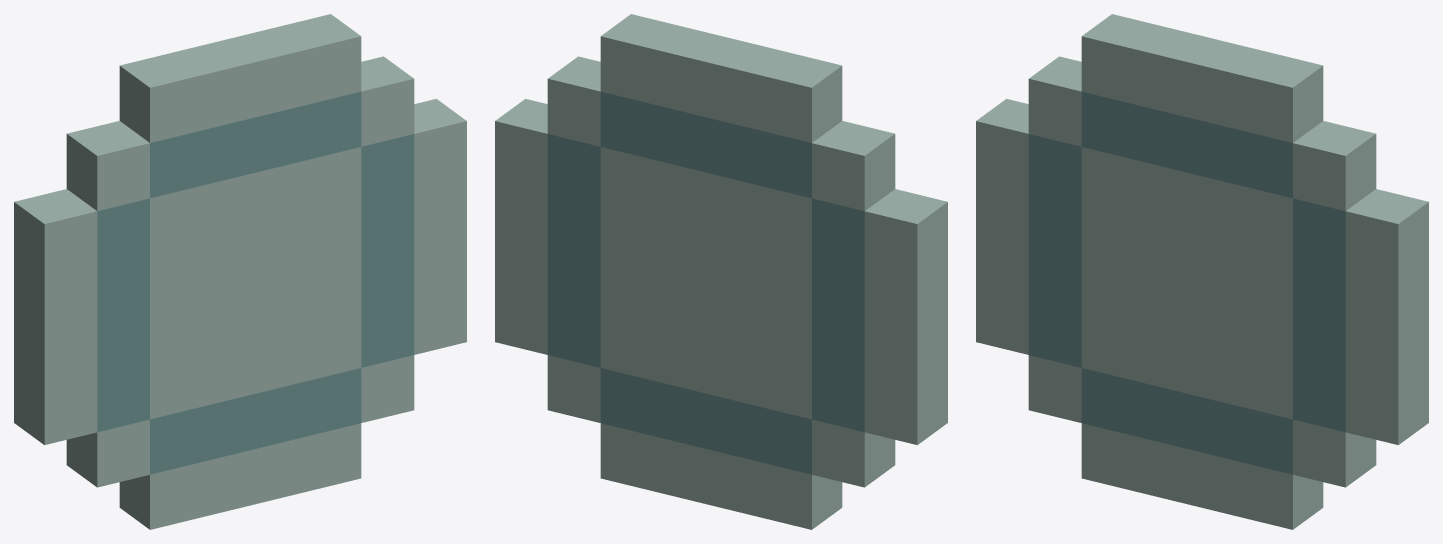
The model's file is Coin_Small_4.glb.
3 views of the same model, side by side, from view 1: azimuth 30°, elevation 25°; view 2: azimuth 150°, elevation 25°; view 3: azimuth 330°, elevation 25° (orthographic).
Parts seen in each view (by area): view 1: Coin_Small_4; view 2: Coin_Small_4; view 3: Coin_Small_4.
Boxes of the visible parts, x1=… form: Coin_Small_4: x1=14, y1=14, x2=466, y2=529; Coin_Small_4: x1=495, y1=14, x2=947, y2=529; Coin_Small_4: x1=976, y1=14, x2=1428, y2=529.
Bounding box in the file's own units: 0.2 × 0.2 × 0.025.
